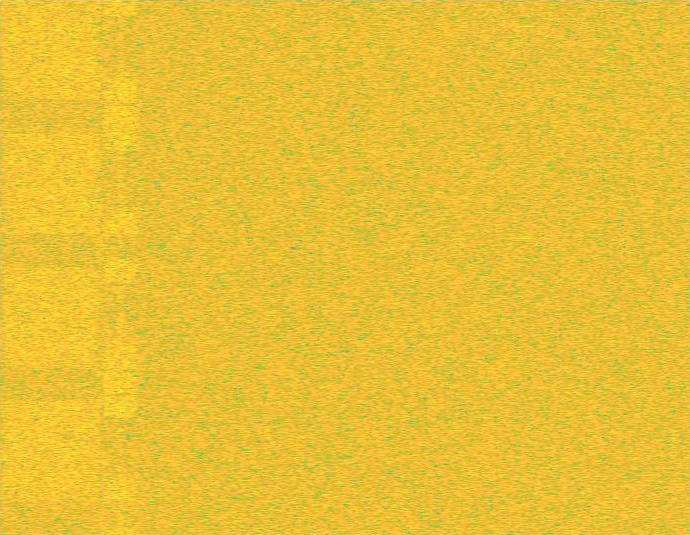5G: (0, 0, 104, 534)
DSSS: (118, 0, 123, 534)
LTE: (104, 0, 138, 534)
Radar: (519, 0, 532, 534)
